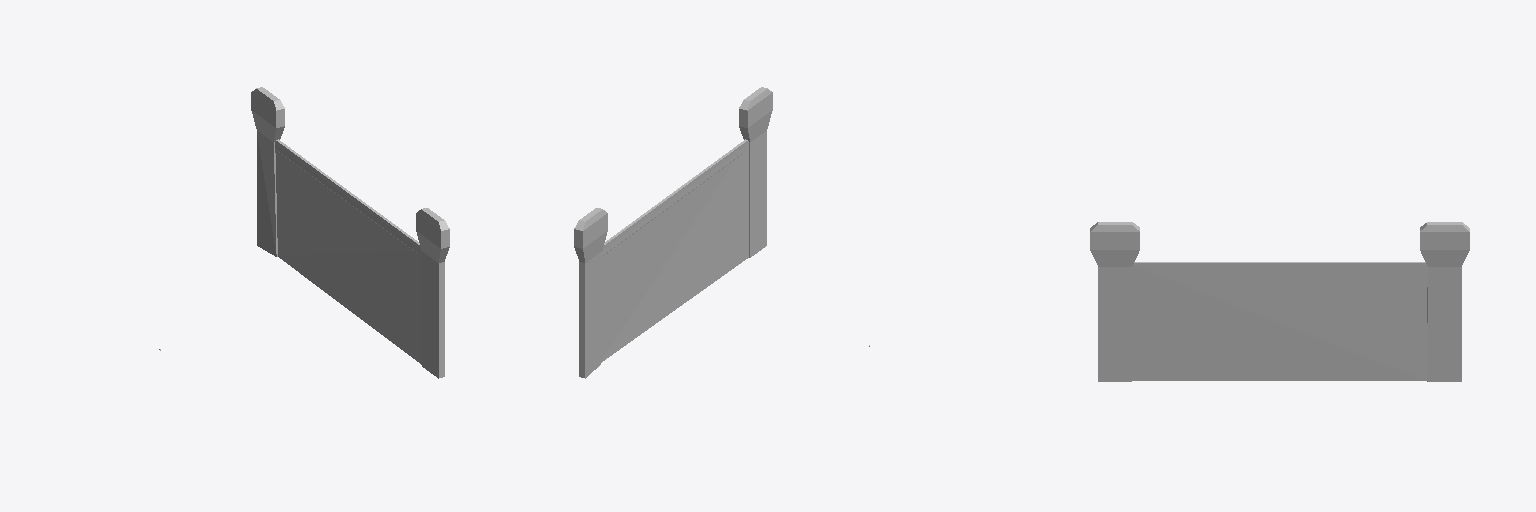
File: wall.obj
3 views of the same model, side by side, from view 1: azimuth 30°, elevation 25°; view 2: azimuth 150°, elevation 25°; view 3: azimuth 270°, elevation 25° (orthographic).
Visible parts, largest first — view 1: brick_wall_with_proxy; view 2: brick_wall_with_proxy; view 3: brick_wall_with_proxy.
Boxes of the visible parts, x1,y1,x2,y2 form: brick_wall_with_proxy: [251, 87, 449, 378]; brick_wall_with_proxy: [574, 87, 772, 378]; brick_wall_with_proxy: [1090, 222, 1469, 381].
Bounding box in the file's own units: 9.23 × 6.99 × 15.32.